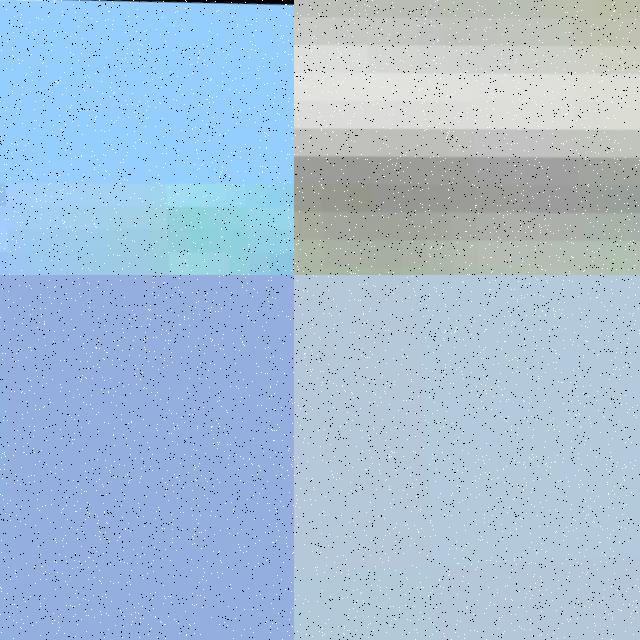0: (0, 0, 294, 275)
drone: (294, 0, 640, 275)
